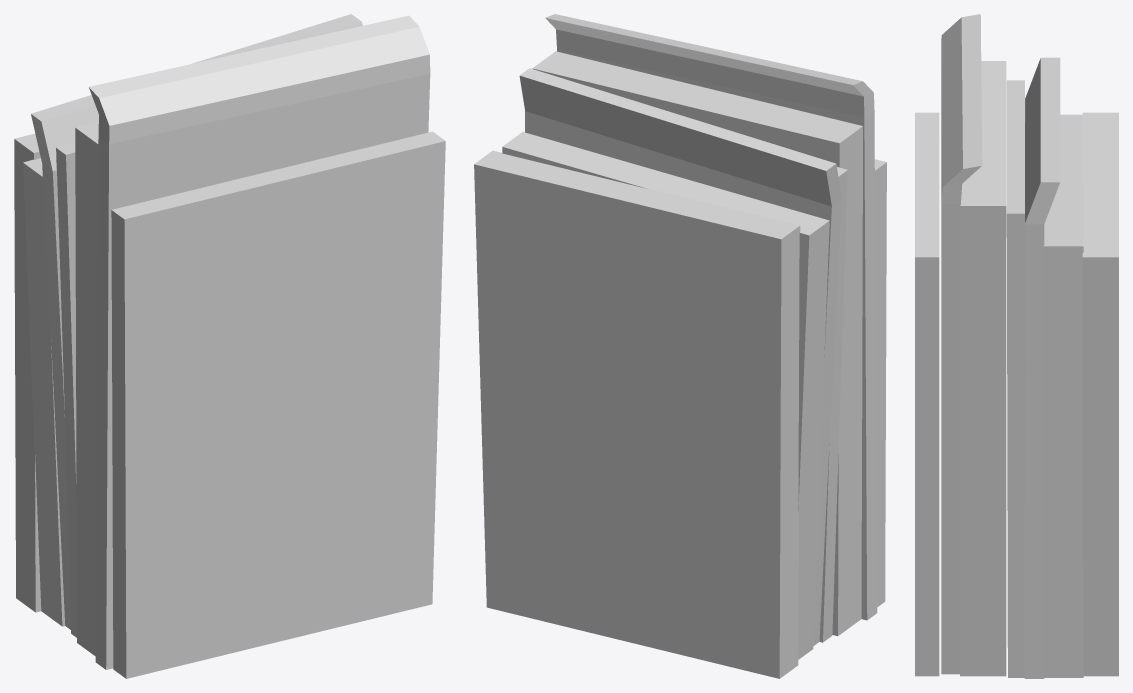
Rendered from Office_Files_F.obj.
3 renders of one model, left to right at view 1: azimuth 30°, elevation 25°; view 2: azimuth 150°, elevation 25°; view 3: azimuth 270°, elevation 25°, orthographic. The views are drawn at different scales.
Parts seen in each view (by area): view 1: Office_Files_F; view 2: Office_Files_F; view 3: Office_Files_F.
Part boxes in pixels (bbox=[...]): Office_Files_F: bbox=[14, 14, 445, 678]; Office_Files_F: bbox=[474, 14, 886, 678]; Office_Files_F: bbox=[915, 14, 1118, 678].
Bounding box in the file's own units: 0.2553 × 0.4107 × 0.1449.
